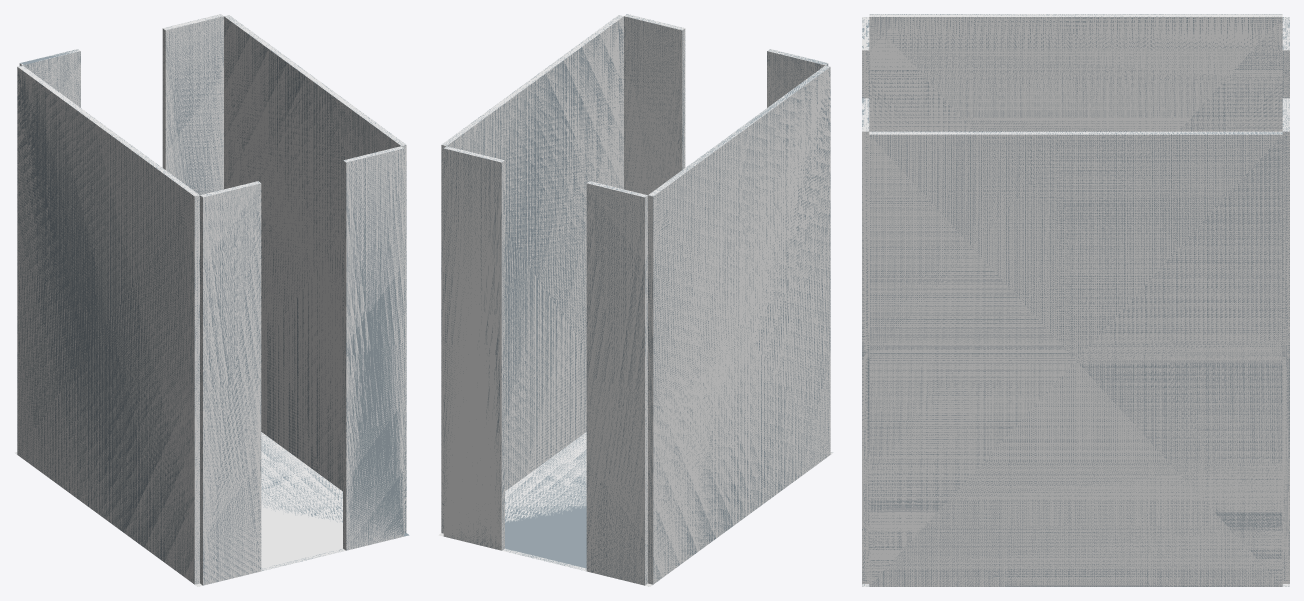
File: Raum4.fbx
3 renders of one model, left to right at view 1: azimuth 30°, elevation 25°; view 2: azimuth 150°, elevation 25°; view 3: azimuth 270°, elevation 25°, orthographic. The views are drawn at different scales.
Visible parts, largest first — view 1: Model; view 2: Model; view 3: Model.
Part boxes in pixels (bbox=[...]): Model: bbox=[14, 14, 409, 586]; Model: bbox=[438, 14, 833, 586]; Model: bbox=[862, 14, 1289, 586].
Bounding box in the file's own units: 2 × 3.5 × 3.
